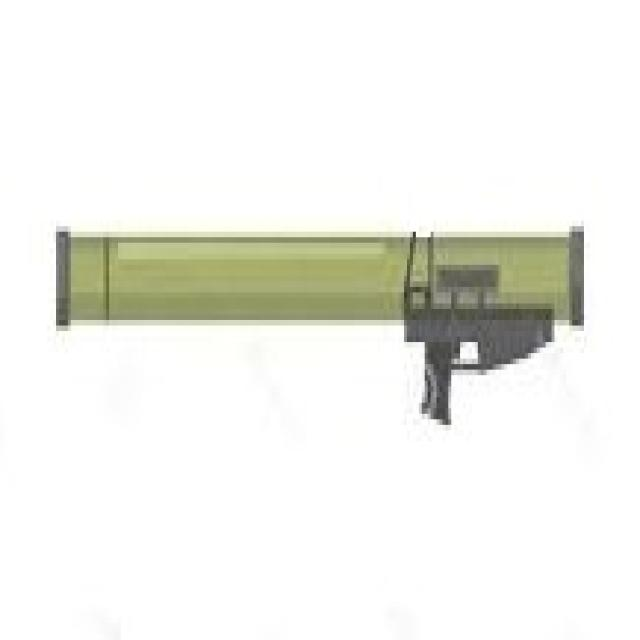bazooka: (49, 212, 589, 434)
